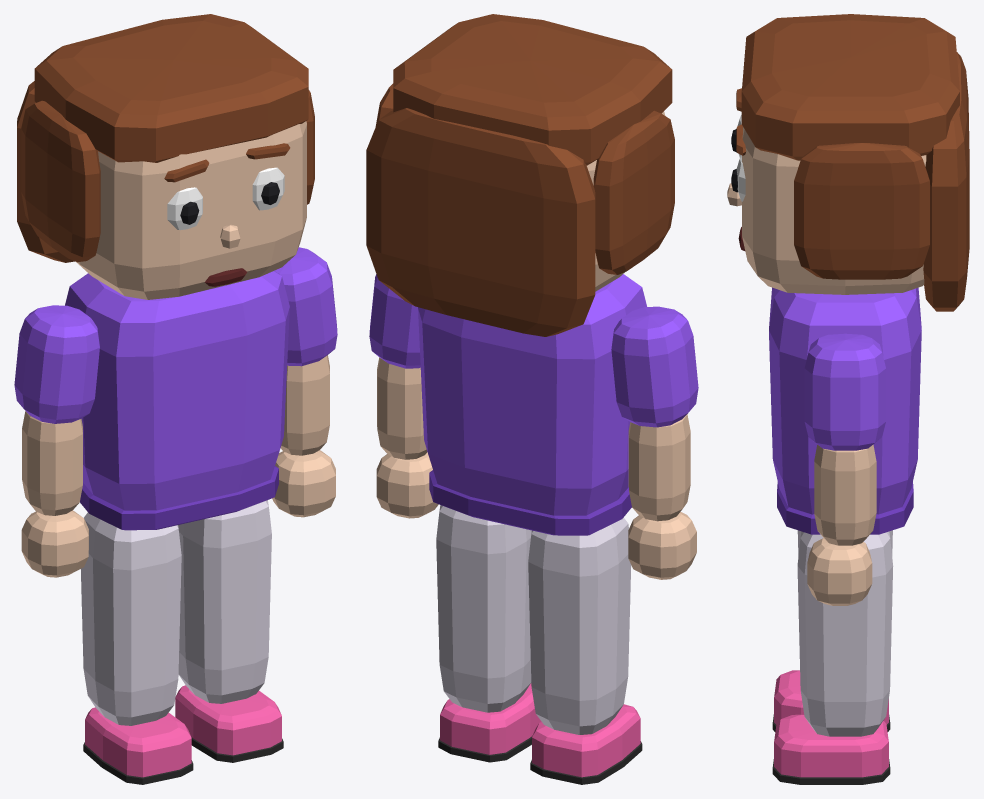
The model's file is hero-e.glb.
The picture shows the model from 3 angles, left to right: view 1: azimuth 30°, elevation 25°; view 2: azimuth 150°, elevation 25°; view 3: azimuth 270°, elevation 25°; orthographic projection.
Visible parts, largest first — view 1: head, torso, leg-right, leg-left, arm-right, arm-left; view 2: head, torso, leg-right, leg-left, arm-right, arm-left; view 3: head, torso, leg-left, arm-left, leg-right.
Part boxes in pixels (x1,y1,x2,y2): head: [17, 14, 314, 299]; torso: [65, 270, 289, 530]; leg-right: [81, 512, 193, 784]; leg-left: [175, 500, 283, 762]; arm-right: [14, 305, 99, 577]; arm-left: [272, 247, 337, 517]; head: [366, 14, 674, 336]; torso: [418, 274, 646, 535]; leg-right: [528, 517, 642, 784]; leg-left: [436, 505, 541, 762]; arm-right: [611, 306, 698, 579]; arm-left: [369, 274, 438, 518]; head: [727, 14, 969, 311]; torso: [769, 287, 921, 534]; leg-left: [772, 531, 893, 784]; arm-left: [804, 333, 885, 605]; leg-right: [772, 530, 892, 731].
Size of the model in its own units: 1.29 by 2.74 by 0.8741.
